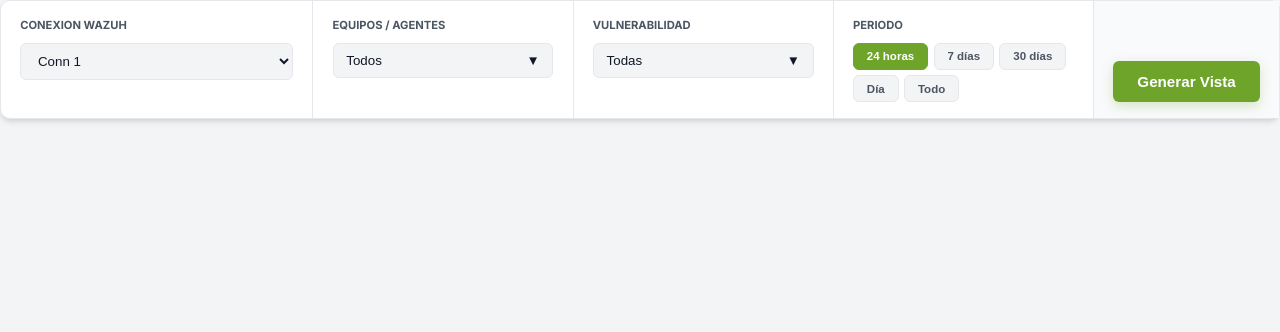
TimelineFilters.vue › opens agent dropdown when clicked
Click the button with class "dd-btn" showing "Todos ▼" at point(443, 60), box x1=332 y1=43 x2=553 y2=78
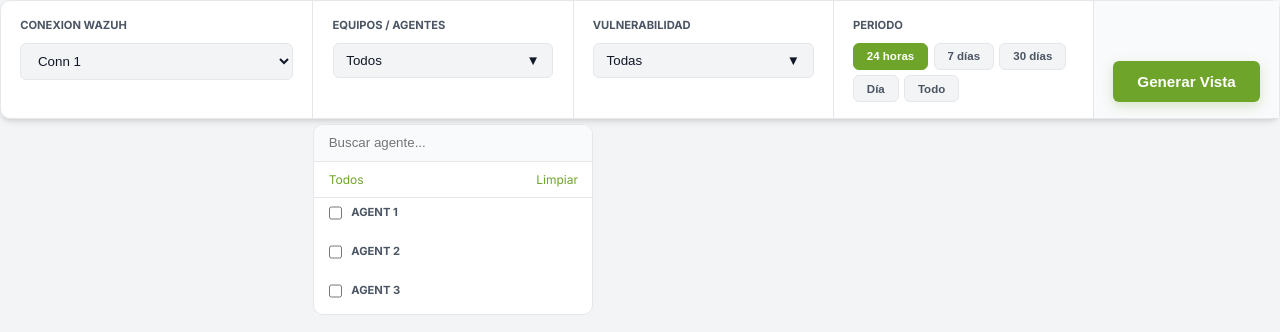
Now the element with class "dd-panel" is shown, box x1=313 y1=124 x2=593 y2=315
